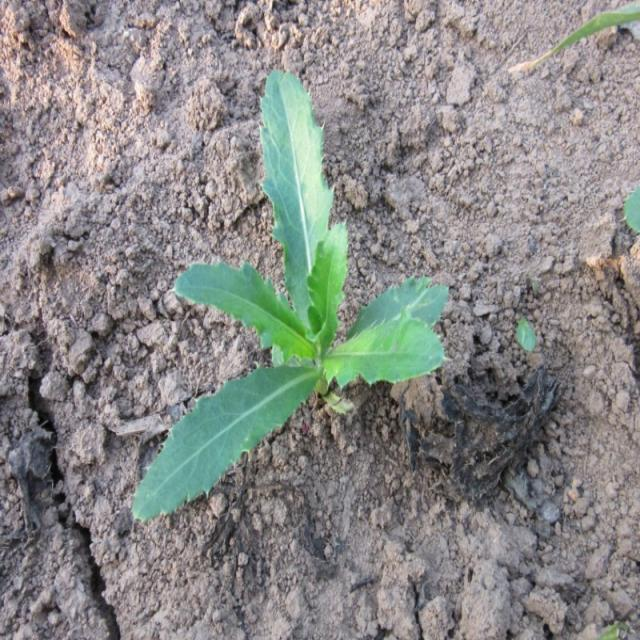cs: (133, 66, 450, 522)
